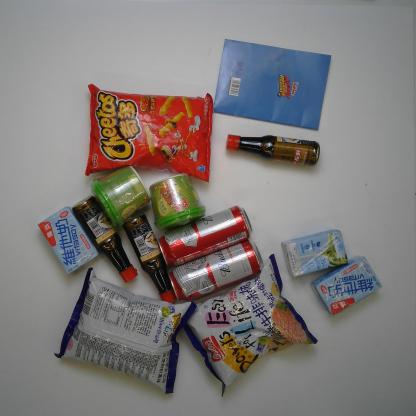Alcohol: (163, 240, 262, 302), (155, 206, 252, 266)
Instant Drink: (89, 164, 150, 230), (141, 174, 205, 229)
Milk: (310, 258, 380, 322), (38, 206, 101, 273), (280, 230, 348, 275)
Puffed Food: (180, 254, 318, 400), (53, 265, 196, 395), (84, 81, 212, 188)
Seasoner: (75, 196, 138, 287), (121, 208, 176, 308), (222, 130, 320, 166)
Stationery: (210, 34, 330, 133)
